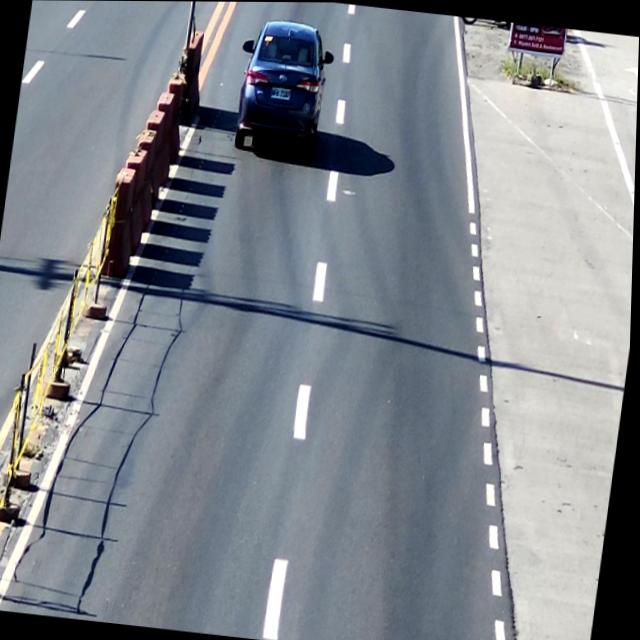Car: (230, 19, 335, 158)
License-Plate: (269, 82, 294, 104)
